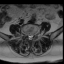CCS_normal: (29, 33, 31, 42)
LFS_stenosis: (33, 31, 35, 37)
LLS_normal: (31, 33, 33, 40)
RFS_severe_stenosis: (25, 31, 27, 37)
RLS_normal: (27, 33, 29, 40)
